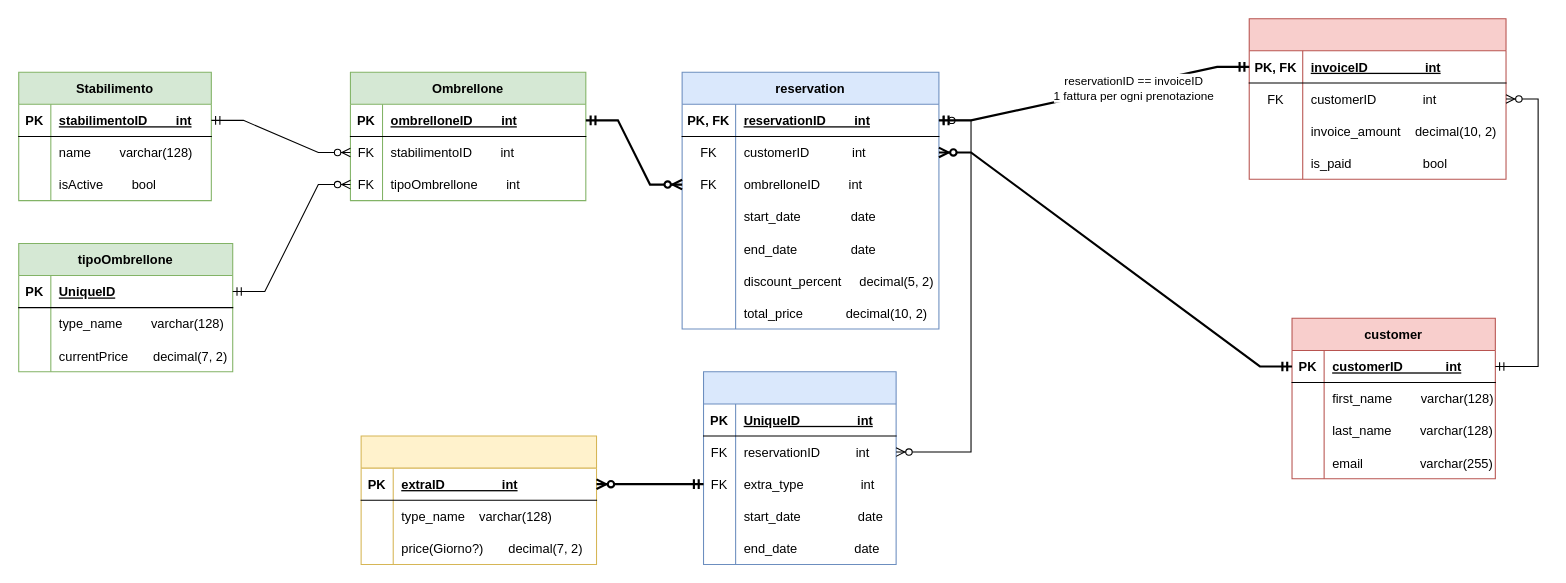
This 1566x583 diagram has some shape labels left out. Here are the shapes that lost their labels. From the top down, the box of each, then its label:
(1248, 18, 1506, 179): customer_invoice
(702, 371, 896, 564): extra_prenotati
(360, 435, 597, 564): extra_type
